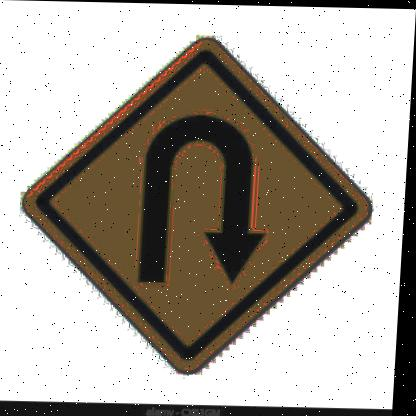U-turn: (16, 30, 383, 370)
